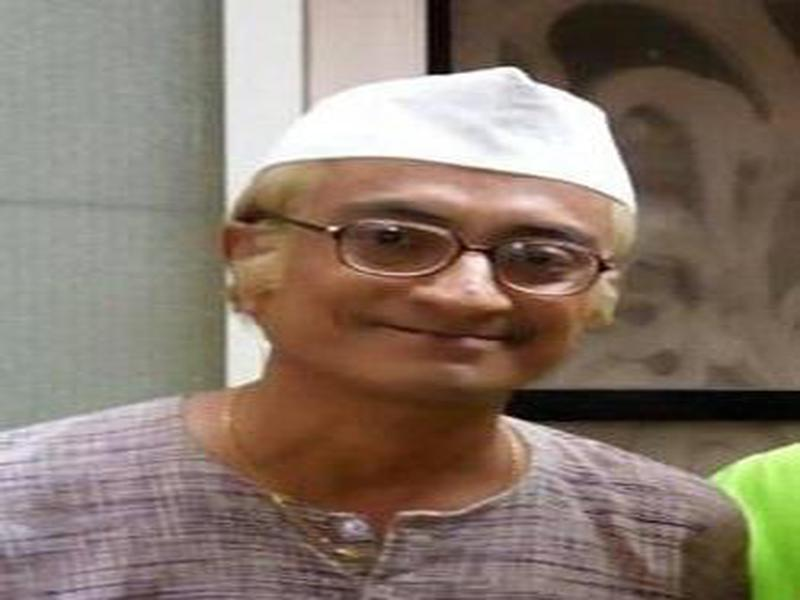without_mask: (285, 157, 597, 397)
